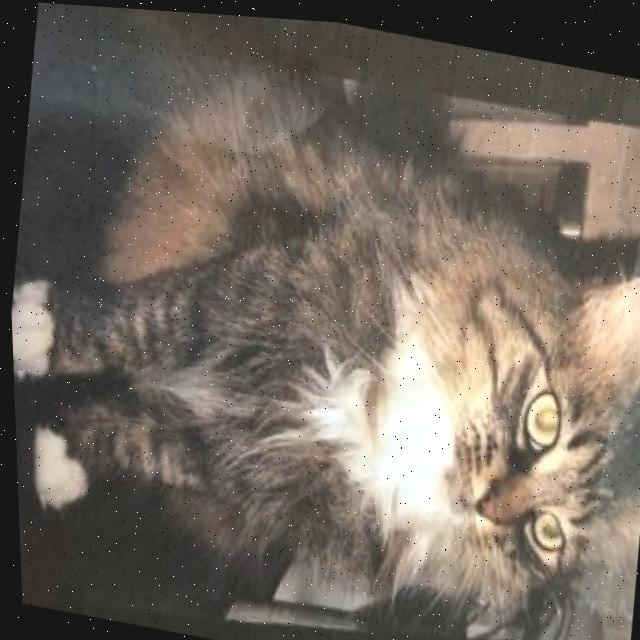Maine Coon: (0, 8, 640, 640)
